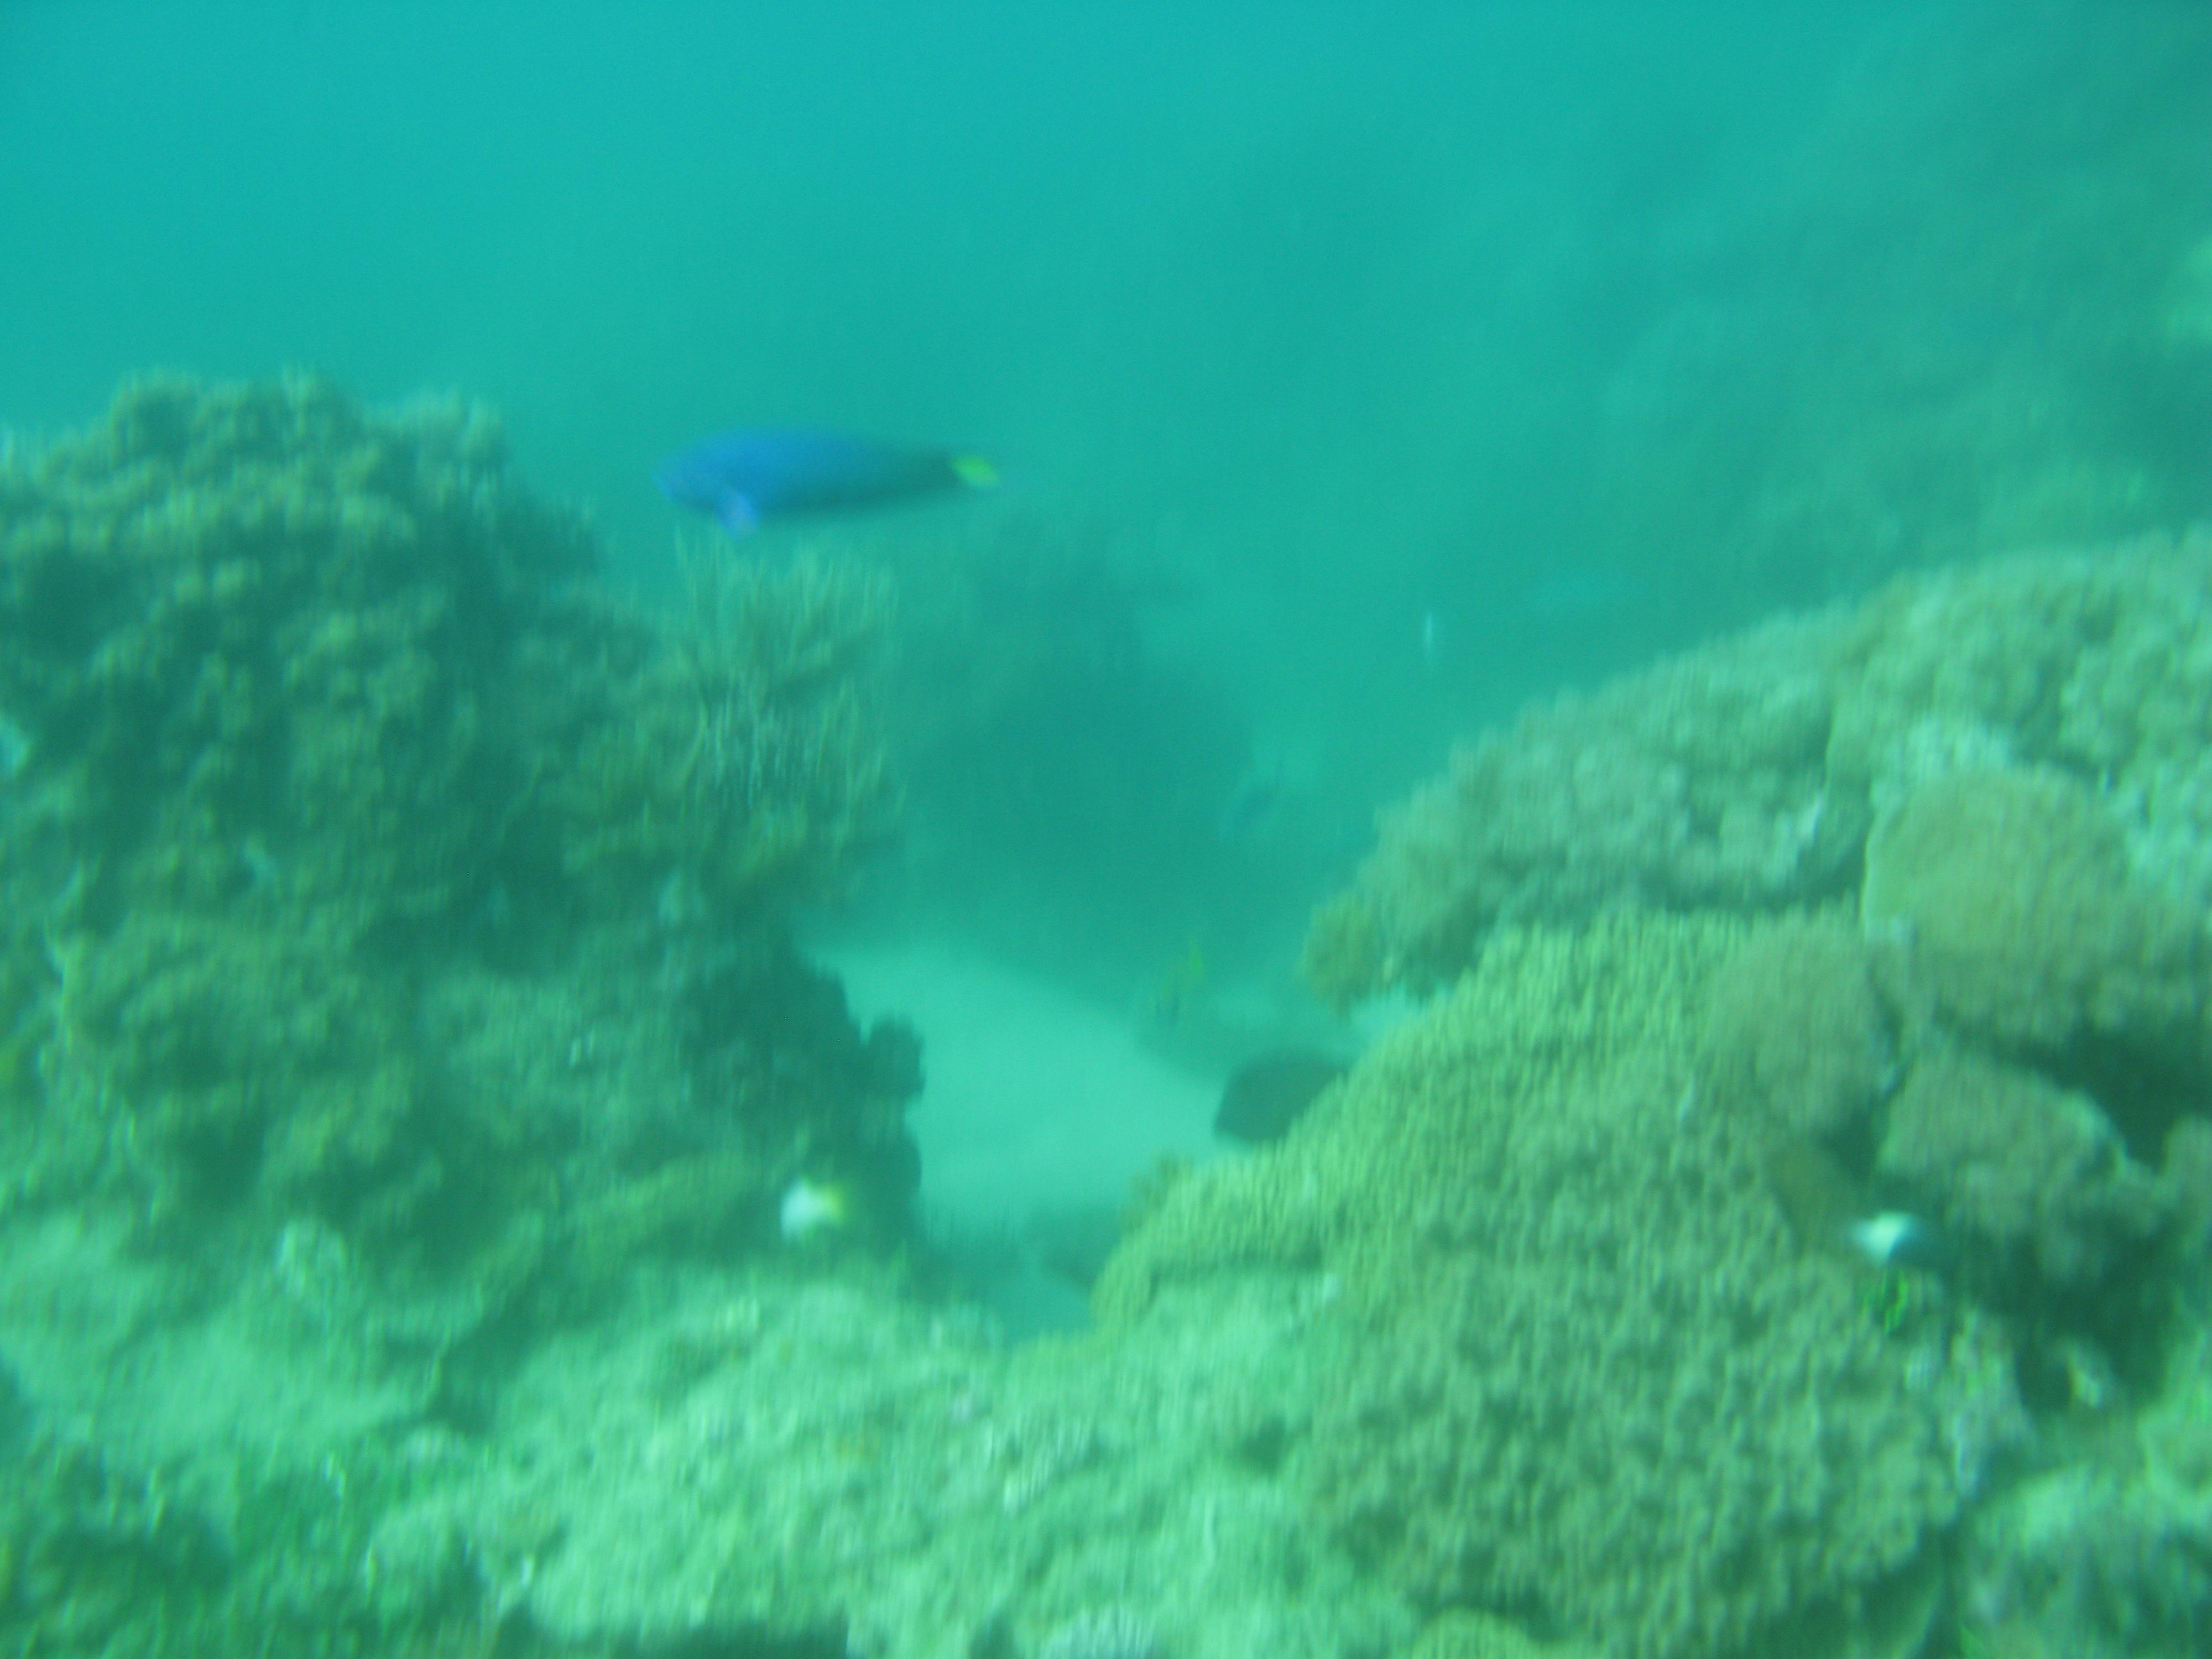Fish: (611, 403, 1024, 582)
